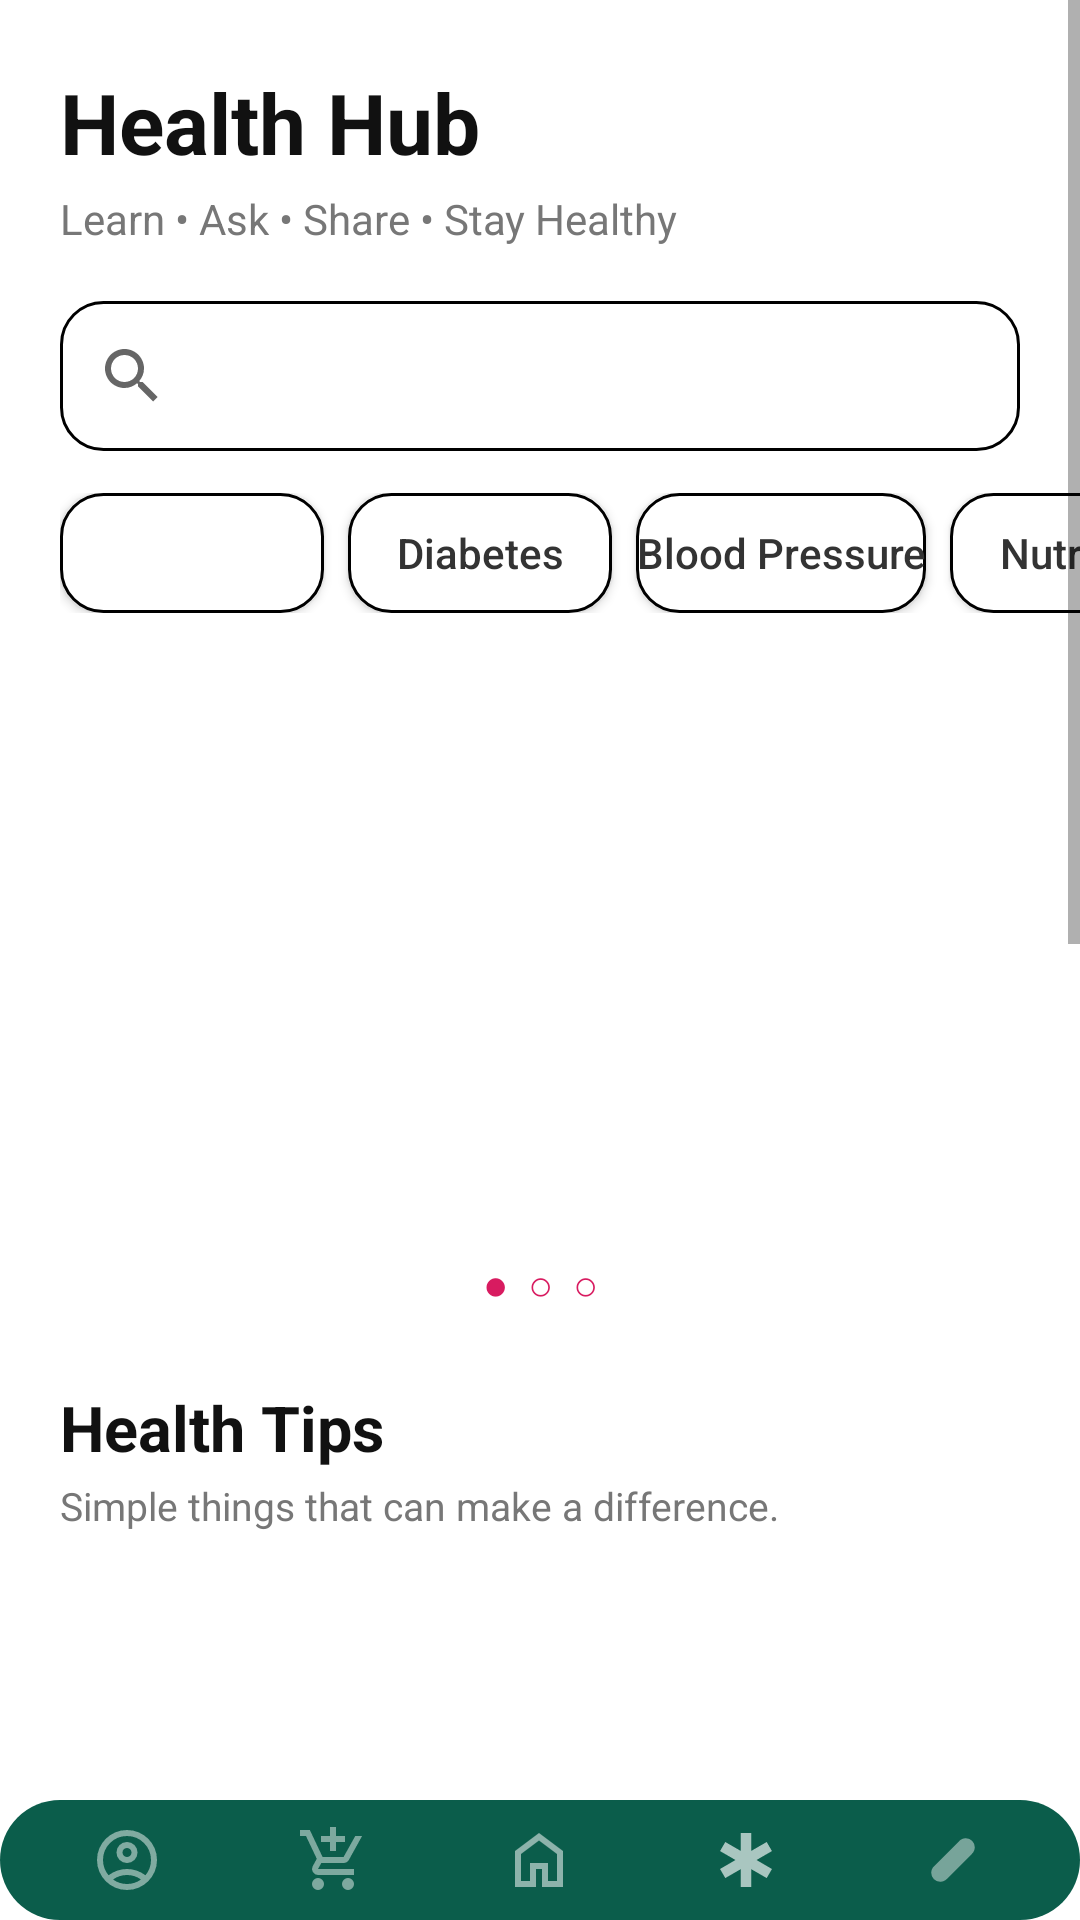

Named icons in this screenshot (1080×1920) and their bounding boxes, (x1, y1, x2, y2):
account circle: (97, 1830, 157, 1890)
Emergency: (720, 1833, 772, 1887)
home: (515, 1833, 563, 1887)
